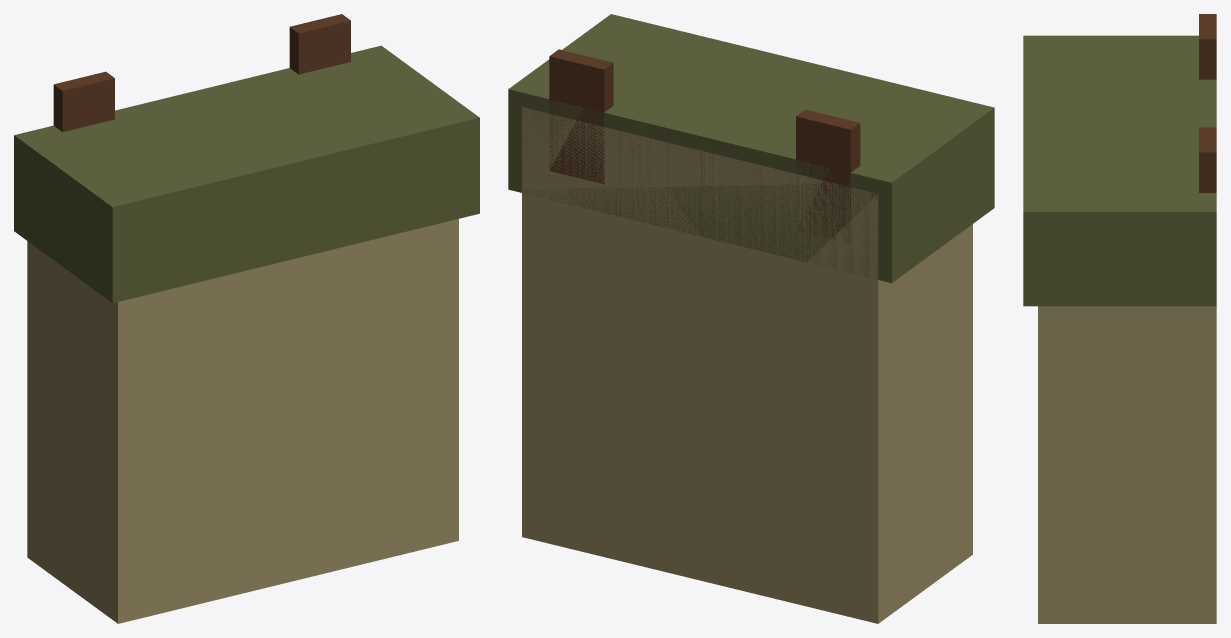
Rendered from backpack_small.glb.
3 renders of one model, left to right at view 1: azimuth 30°, elevation 25°; view 2: azimuth 150°, elevation 25°; view 3: azimuth 270°, elevation 25°, orthographic. The views are drawn at different scales.
Parts seen in each view (by area): view 1: backpack_small; view 2: backpack_small; view 3: backpack_small.
Boxes of the visible parts, left/top/right/bottom form: backpack_small: left=14, top=14, right=479, bottom=623; backpack_small: left=508, top=14, right=994, bottom=623; backpack_small: left=1023, top=14, right=1216, bottom=623.
Bounding box in the file's own units: 0.28 × 0.34 × 0.13.
Materials: 1 (1 with a texture image).
